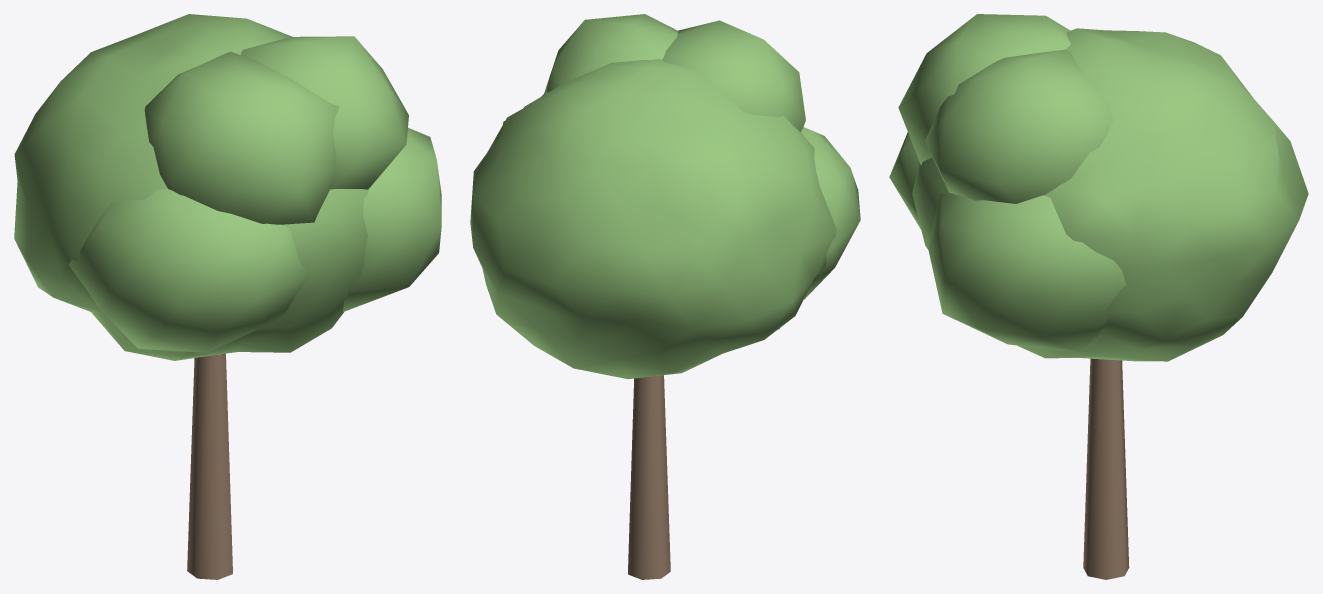
The model's file is tree_puffy_b.glb.
The picture shows the model from 3 angles, left to right: view 1: azimuth 30°, elevation 25°; view 2: azimuth 150°, elevation 25°; view 3: azimuth 270°, elevation 25°; orthographic projection. The views are drawn at different scales.
Parts seen in each view (by area): view 1: tree_puffy_b; view 2: tree_puffy_b; view 3: tree_puffy_b.
Part boxes in pixels (box(x1,y1,x2,y2)): tree_puffy_b: box(14, 14, 441, 579); tree_puffy_b: box(470, 14, 860, 579); tree_puffy_b: box(889, 14, 1308, 579).
Size of the model in its own units: 4.98 by 7.24 by 5.13.
